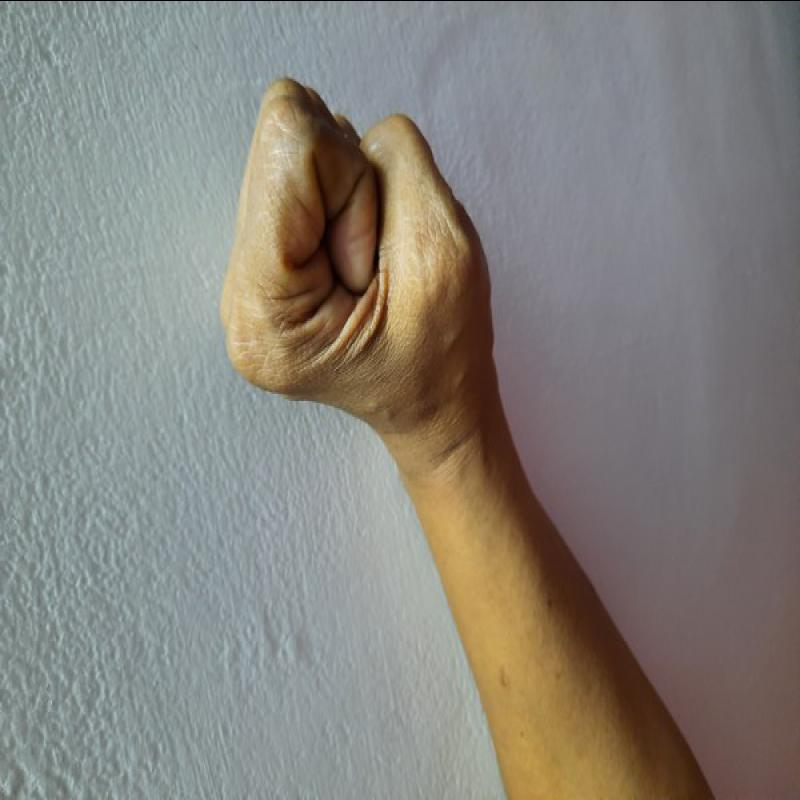Mushti: (174, 59, 524, 465)
